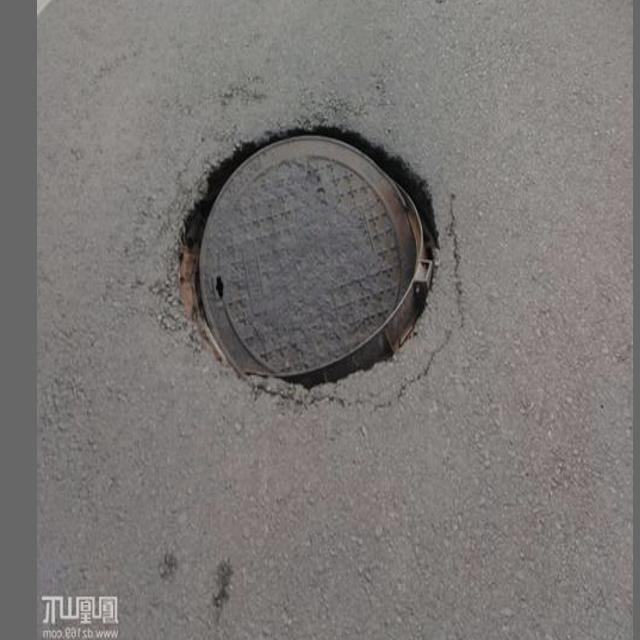circle: (148, 102, 482, 413)
